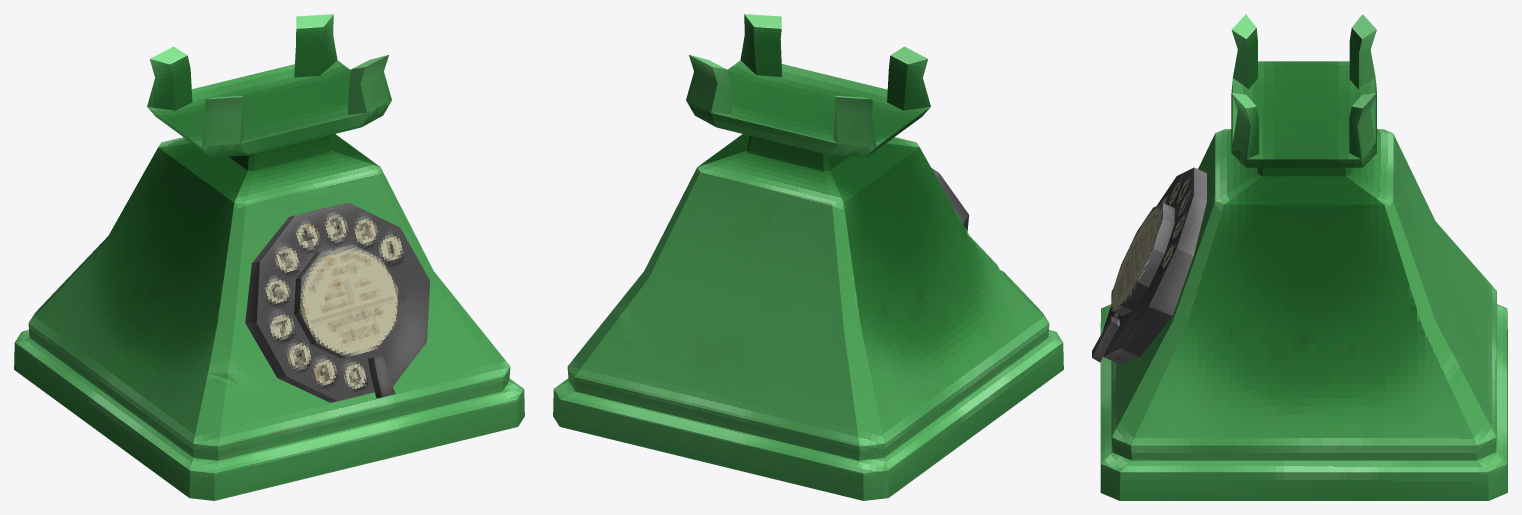
Rendered from tel1.glb.
3 renders of one model, left to right at view 1: azimuth 30°, elevation 25°; view 2: azimuth 150°, elevation 25°; view 3: azimuth 270°, elevation 25°, orthographic. The views are drawn at different scales.
Visible parts, largest first — view 1: telephone; view 2: telephone; view 3: telephone.
Part boxes in pixels (bbox=[...]): telephone: bbox=[14, 14, 524, 500]; telephone: bbox=[553, 14, 1063, 500]; telephone: bbox=[1092, 14, 1507, 500].
Bounding box in the file's own units: 0.0466 × 0.0447 × 0.0476.
Materials: 1 (1 with a texture image).
